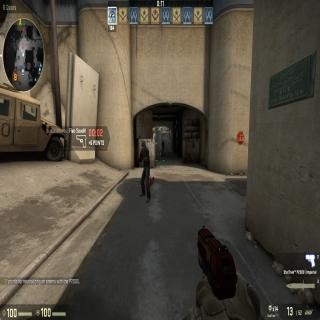T-Body: (137, 138, 152, 204), (160, 138, 166, 157)
T-Head: (140, 140, 147, 151), (160, 139, 164, 143)
